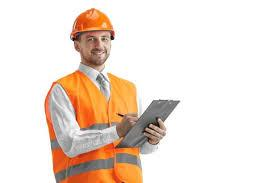hat: (59, 7, 128, 47)
vest: (39, 59, 150, 183)
